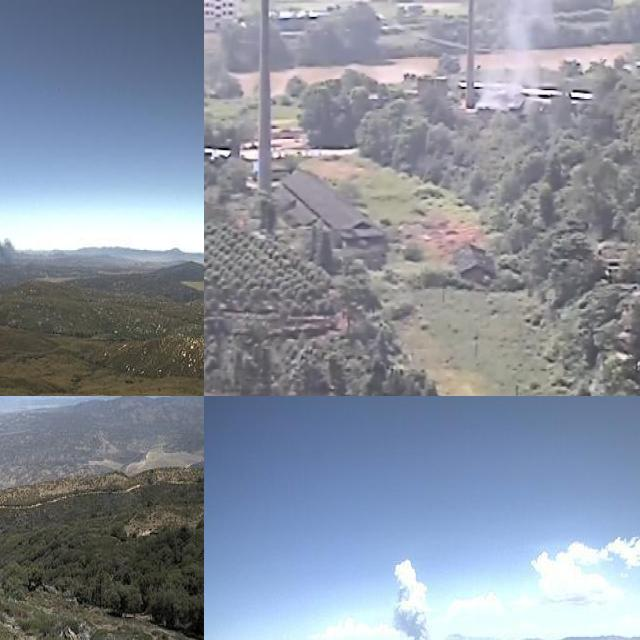smoke: (479, 0, 557, 107), (389, 557, 436, 640), (0, 216, 18, 267)
